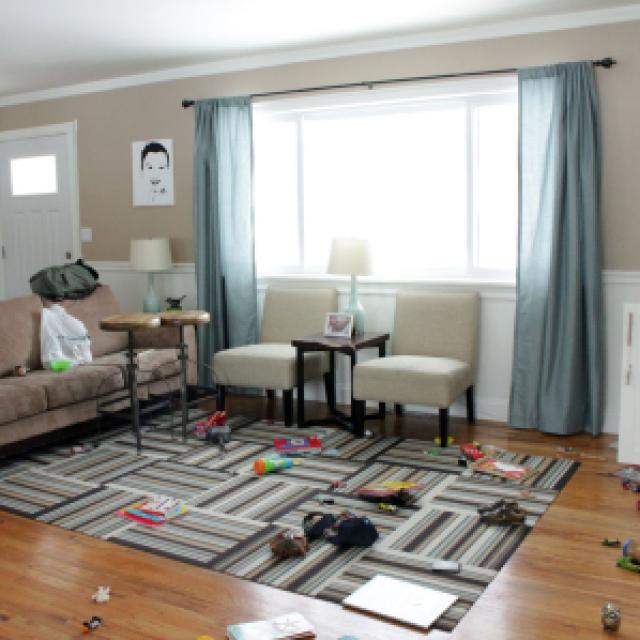mess: (0, 407, 640, 639), (0, 258, 193, 392)
